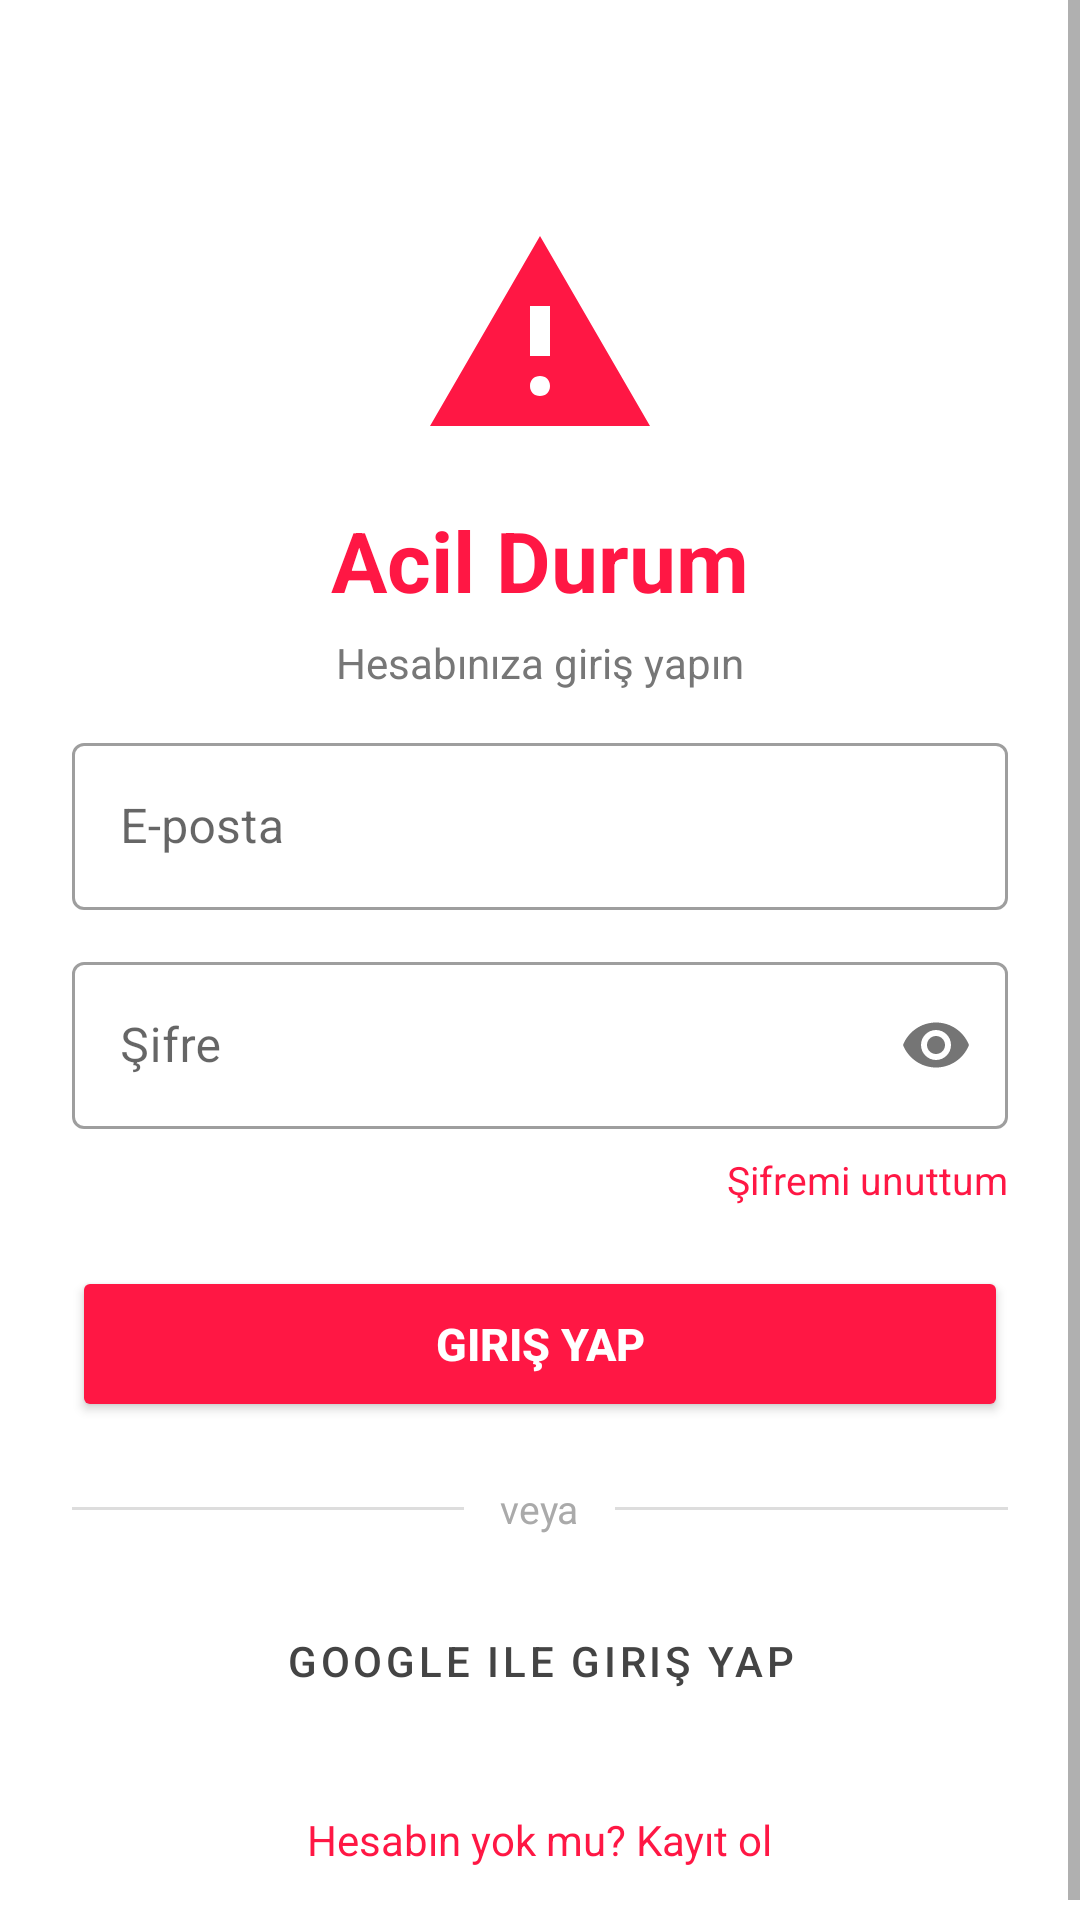

Screen size 1080px×1920px. Icon name, then its box in pixels as (x1, y1, x2, y2):
emergency: (430, 236, 650, 426)
